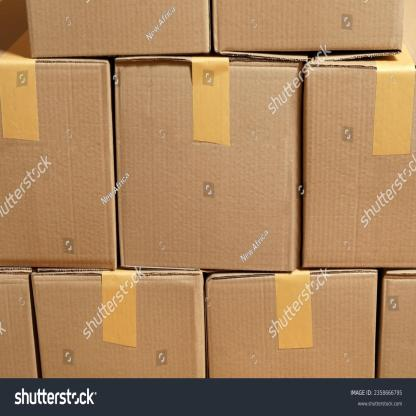box: (117, 59, 298, 271), (0, 58, 116, 266), (303, 66, 416, 268), (31, 274, 205, 380), (207, 276, 374, 380), (214, 0, 404, 53), (28, 0, 208, 55), (0, 272, 39, 376), (381, 276, 415, 380)
